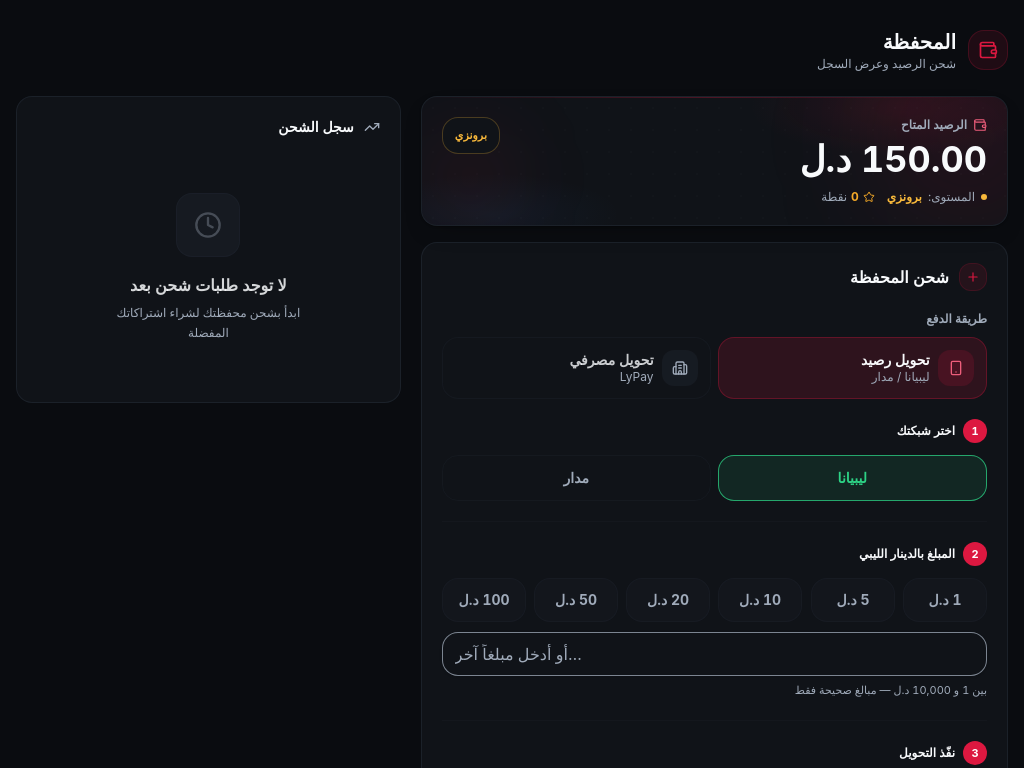
Test: WalletPage — the whole-dinar snap (Math.min(10000, Math.max(1, Math.round(v)))) › blurring a fractional field rounds it in place (24.9 → 25, matching the USSD code)
In the field labelled "المبلغ بالدينار الليبي": x=714, y=654 [442,632,987,676], type "24.9"
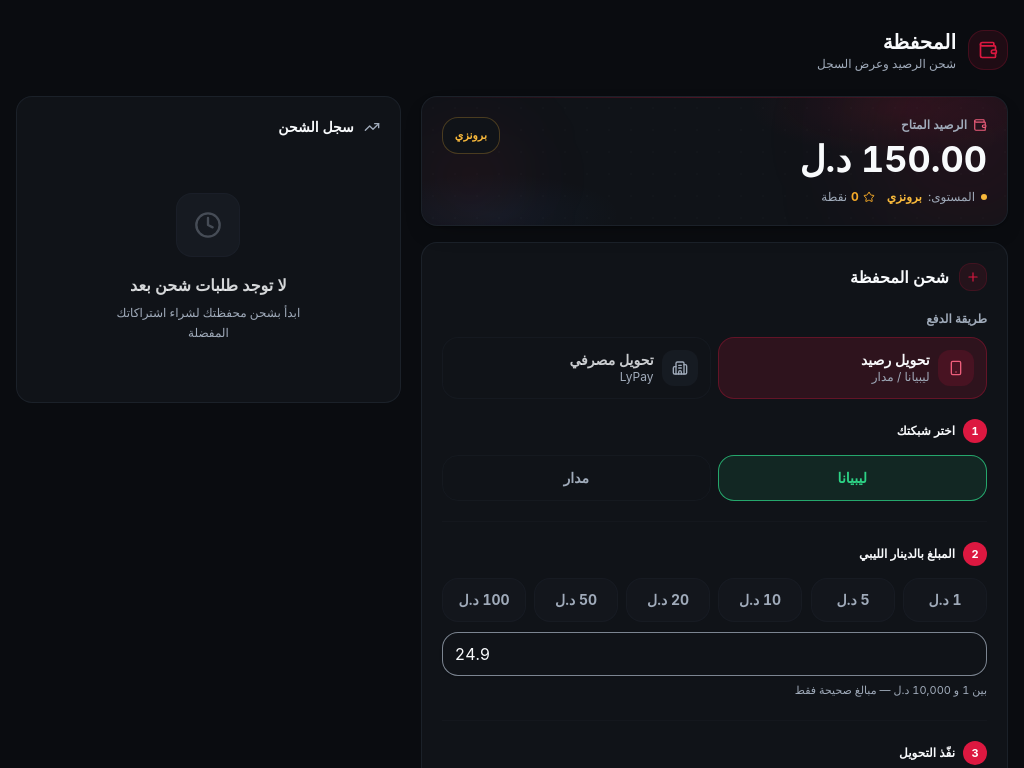
Leave the field labelled "المبلغ بالدينار الليبي", box [442,632,987,676]
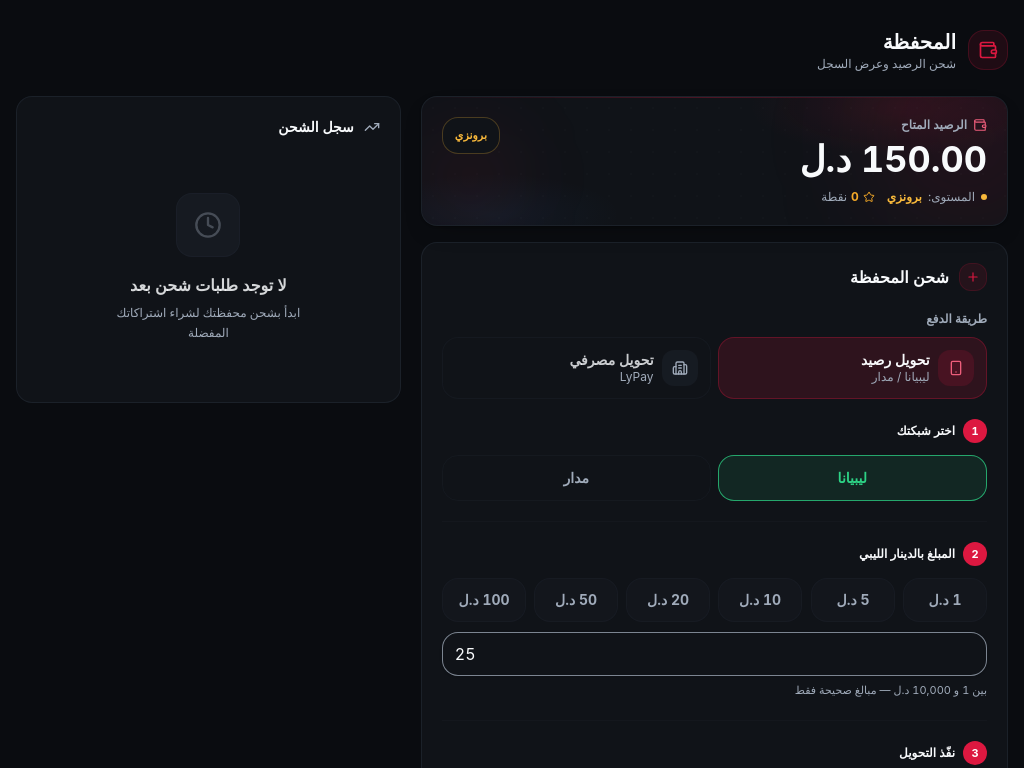
Now the field labelled "المبلغ بالدينار الليبي" holds "25", box [442,632,987,676]
